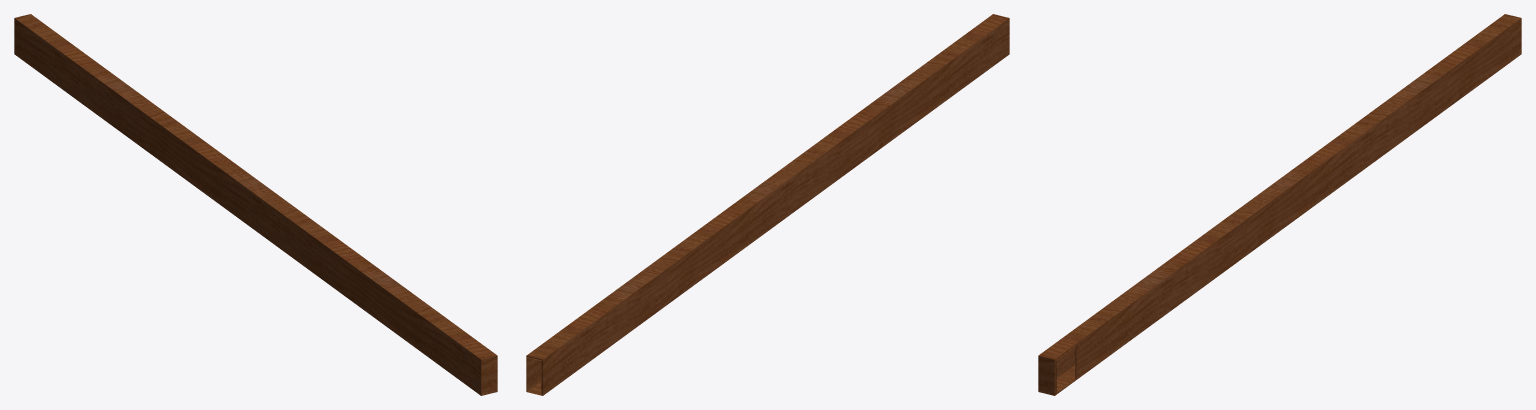
Rendered from original-42.obj.
3 renders of one model, left to right at view 1: azimuth 30°, elevation 25°; view 2: azimuth 150°, elevation 25°; view 3: azimuth 330°, elevation 25°, orthographic.
Parts seen in each view (by area): view 1: asse_cassetto2/asse_cassetto/mesh26/mesh26-geometry#mesh26-geome; view 2: asse_cassetto2/asse_cassetto/mesh26/mesh26-geometry#mesh26-geome; view 3: asse_cassetto2/asse_cassetto/mesh26/mesh26-geometry#mesh26-geome.
Part boxes in pixels (bbox=[...]): asse_cassetto2/asse_cassetto/mesh26/mesh26-geometry#mesh26-geome: bbox=[14, 14, 497, 395]; asse_cassetto2/asse_cassetto/mesh26/mesh26-geometry#mesh26-geome: bbox=[526, 14, 1009, 395]; asse_cassetto2/asse_cassetto/mesh26/mesh26-geometry#mesh26-geome: bbox=[1038, 14, 1521, 395].
Bounding box in the file's own units: 0.0105 × 0.0209 × 0.488.
Materials: 3 (1 with a texture image).
